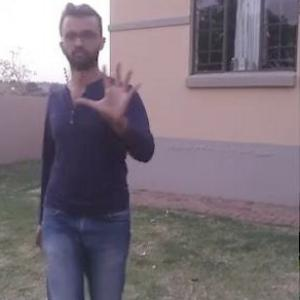follow_hand: (76, 57, 146, 121)
